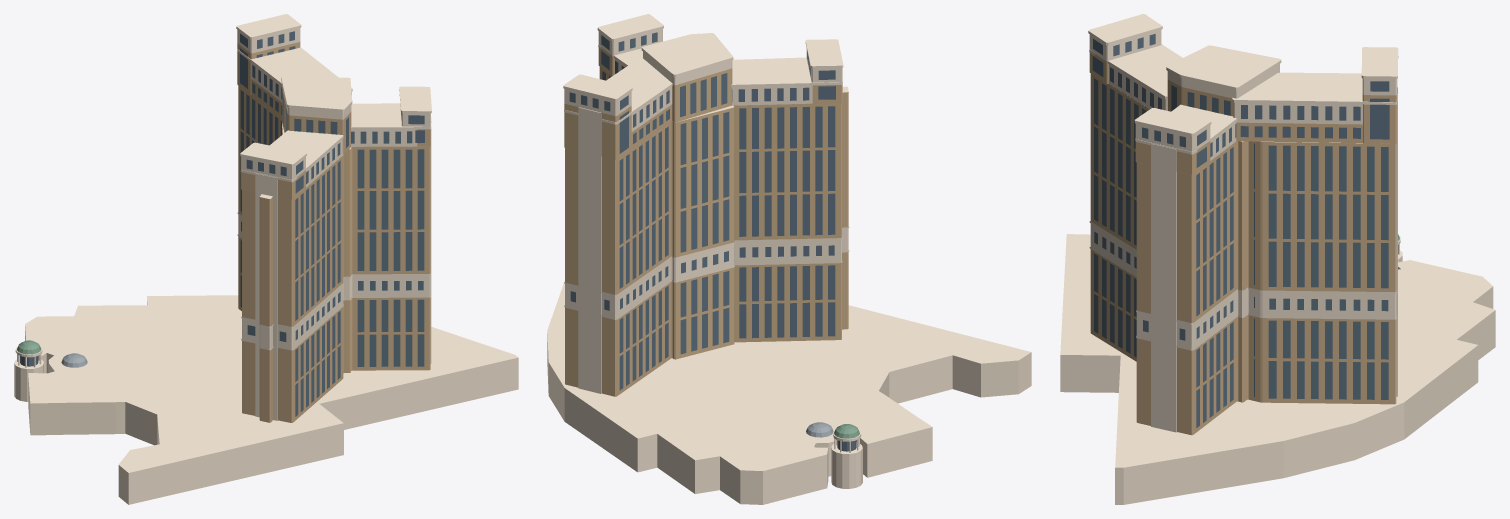
File: lv-palazzo.glb
3 renders of one model, left to right at view 1: azimuth 30°, elevation 25°; view 2: azimuth 150°, elevation 25°; view 3: azimuth 270°, elevation 25°, orthographic. The views are drawn at different scales.
Visible parts, largest first — view 1: The Palazzo; view 2: The Palazzo; view 3: The Palazzo.
Part boxes in pixels (box(x1,y1,x2,y2)): The Palazzo: box(14, 14, 518, 504); The Palazzo: box(547, 14, 1031, 504); The Palazzo: box(1060, 14, 1495, 504).
Size of the model in its own units: 271 by 196 by 212.
